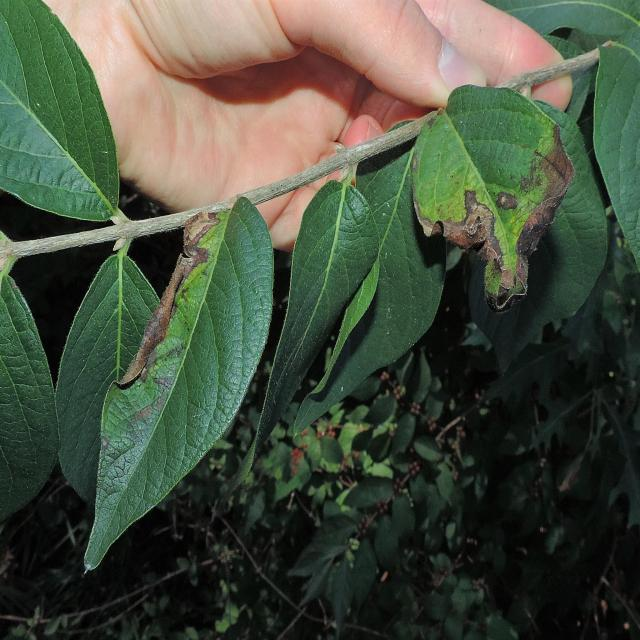blight: (417, 132, 570, 296), (105, 210, 214, 412)
